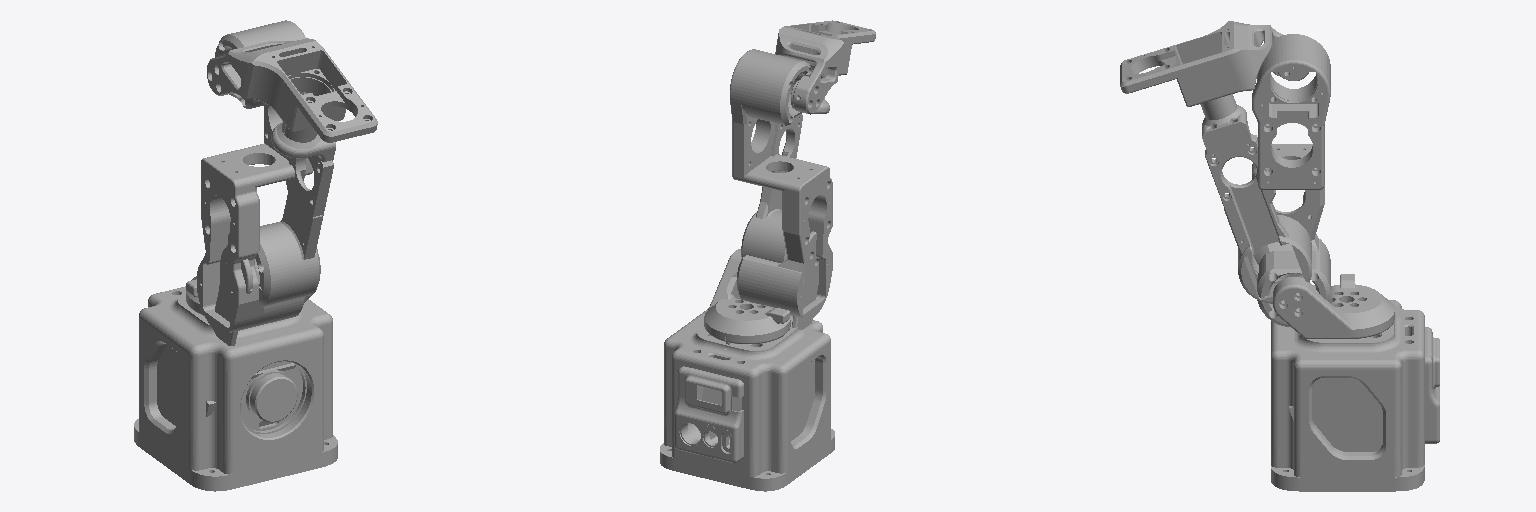
URDF robot description (dummy):
<?xml version="1.0" ?>
<!-- =================================================================================== -->
<!-- |    This document was autogenerated by xacro from /data/QRC2025/ros2/dummy_ws/src/dummy-ros2_description/urdf/dummy-ros2.xacro | -->
<!-- |    EDITING THIS FILE BY HAND IS NOT RECOMMENDED                                 | -->
<!-- =================================================================================== -->
<robot name="dummy">
  <material name="silver">
    <color rgba="0.700 0.700 0.700 1.000"/>
  </material>
  <transmission name="Joint1_tran">
    <type>transmission_interface/SimpleTransmission</type>
    <joint name="Joint1">
      <hardwareInterface>hardware_interface/EffortJointInterface</hardwareInterface>
    </joint>
    <actuator name="Joint1_actr">
      <hardwareInterface>hardware_interface/EffortJointInterface</hardwareInterface>
      <mechanicalReduction>1</mechanicalReduction>
    </actuator>
  </transmission>
  <transmission name="Joint2_tran">
    <type>transmission_interface/SimpleTransmission</type>
    <joint name="Joint2">
      <hardwareInterface>hardware_interface/EffortJointInterface</hardwareInterface>
    </joint>
    <actuator name="Joint2_actr">
      <hardwareInterface>hardware_interface/EffortJointInterface</hardwareInterface>
      <mechanicalReduction>1</mechanicalReduction>
    </actuator>
  </transmission>
  <transmission name="Joint3_tran">
    <type>transmission_interface/SimpleTransmission</type>
    <joint name="Joint3">
      <hardwareInterface>hardware_interface/EffortJointInterface</hardwareInterface>
    </joint>
    <actuator name="Joint3_actr">
      <hardwareInterface>hardware_interface/EffortJointInterface</hardwareInterface>
      <mechanicalReduction>1</mechanicalReduction>
    </actuator>
  </transmission>
  <transmission name="Joint4_tran">
    <type>transmission_interface/SimpleTransmission</type>
    <joint name="Joint4">
      <hardwareInterface>hardware_interface/EffortJointInterface</hardwareInterface>
    </joint>
    <actuator name="Joint4_actr">
      <hardwareInterface>hardware_interface/EffortJointInterface</hardwareInterface>
      <mechanicalReduction>1</mechanicalReduction>
    </actuator>
  </transmission>
  <transmission name="Joint5_tran">
    <type>transmission_interface/SimpleTransmission</type>
    <joint name="Joint5">
      <hardwareInterface>hardware_interface/EffortJointInterface</hardwareInterface>
    </joint>
    <actuator name="Joint5_actr">
      <hardwareInterface>hardware_interface/EffortJointInterface</hardwareInterface>
      <mechanicalReduction>1</mechanicalReduction>
    </actuator>
  </transmission>
  <transmission name="Joint6_tran">
    <type>transmission_interface/SimpleTransmission</type>
    <joint name="Joint6">
      <hardwareInterface>hardware_interface/EffortJointInterface</hardwareInterface>
    </joint>
    <actuator name="Joint6_actr">
      <hardwareInterface>hardware_interface/EffortJointInterface</hardwareInterface>
      <mechanicalReduction>1</mechanicalReduction>
    </actuator>
  </transmission>
  <gazebo>
    <plugin filename="libgazebo_ros_control.so" name="control"/>
  </gazebo>
  <gazebo reference="base_link">
    <material>Gazebo/Silver</material>
    <mu1>0.2</mu1>
    <mu2>0.2</mu2>
    <self_collide>true</self_collide>
    <gravity>true</gravity>
  </gazebo>
  <gazebo reference="link1_1_1">
    <material>Gazebo/Silver</material>
    <mu1>0.2</mu1>
    <mu2>0.2</mu2>
    <self_collide>true</self_collide>
  </gazebo>
  <gazebo reference="link2_1_1">
    <material>Gazebo/Silver</material>
    <mu1>0.2</mu1>
    <mu2>0.2</mu2>
    <self_collide>true</self_collide>
  </gazebo>
  <gazebo reference="link3_1_1">
    <material>Gazebo/Silver</material>
    <mu1>0.2</mu1>
    <mu2>0.2</mu2>
    <self_collide>true</self_collide>
  </gazebo>
  <gazebo reference="link4_1_1">
    <material>Gazebo/Silver</material>
    <mu1>0.2</mu1>
    <mu2>0.2</mu2>
    <self_collide>true</self_collide>
  </gazebo>
  <gazebo reference="link5_1_1">
    <material>Gazebo/Silver</material>
    <mu1>0.2</mu1>
    <mu2>0.2</mu2>
    <self_collide>true</self_collide>
  </gazebo>
  <gazebo reference="link6_1_1">
    <material>Gazebo/Silver</material>
    <mu1>0.2</mu1>
    <mu2>0.2</mu2>
    <self_collide>true</self_collide>
  </gazebo>
  <link name="world"/>
  <joint name="world_joint" type="fixed">
    <parent link="world"/>
    <child link="base_link"/>
    <origin rpy="3.1415926536 3.1415926536 0.0" xyz="0.0 0.0 0.0"/>
  </joint>
  <link name="base_link">
    <inertial>
      <origin rpy="0 0 0" xyz="-0.019286443307707055 0.0005817485706867557 0.05546290448958129"/>
      <mass value="3.4054232030550327"/>
      <inertia ixx="0.006318" ixy="-1.1e-05" ixz="-2e-06" iyy="0.00644" iyz="-0.000164" izz="0.006723"/>
    </inertial>
    <visual>
      <origin rpy="0 0 0" xyz="0 0 0"/>
      <geometry>
        <mesh filename="./meshes/base_link.stl" scale="0.001 0.001 0.001"/>
      </geometry>
      <material name="silver"/>
    </visual>
    <collision>
      <origin rpy="0 0 0" xyz="0 0 0"/>
      <geometry>
        <mesh filename="./meshes/base_link.stl" scale="0.001 0.001 0.001"/>
      </geometry>
    </collision>
  </link>
  <link name="link1_1_1">
    <inertial>
      <origin rpy="0 0 0" xyz="-0.005744742318232344 0.005464327027038366 0.012045619429015192"/>
      <mass value="0.4000119946706078"/>
      <inertia ixx="0.000172" ixy="5.8e-05" ixz="2.7e-05" iyy="0.000152" iyz="-3.9e-05" izz="0.00025"/>
    </inertial>
    <visual>
      <origin rpy="0 0 0" xyz="0.019225 0.000523 -0.100684"/>
      <geometry>
        <mesh filename="./meshes/link1_1_1.stl" scale="0.001 0.001 0.001"/>
      </geometry>
      <material name="silver"/>
    </visual>
    <collision>
      <origin rpy="0 0 0" xyz="0.019225 0.000523 -0.100684"/>
      <geometry>
        <mesh filename="./meshes/link1_1_1.stl" scale="0.001 0.001 0.001"/>
      </geometry>
    </collision>
  </link>
  <link name="link2_1_1">
    <inertial>
      <origin rpy="0 0 0" xyz="0.022476329402049397 0.0015836740439541114 0.0701478637986927"/>
      <mass value="0.9644194016592866"/>
      <inertia ixx="0.003808" ixy="-1e-05" ixz="0.000274" iyy="0.003848" iyz="1.3e-05" izz="0.000499"/>
    </inertial>
    <visual>
      <origin rpy="0 0 0" xyz="0.034725 -0.034477 -0.129184"/>
      <geometry>
        <mesh filename="./meshes/link2_1_1.stl" scale="0.001 0.001 0.001"/>
      </geometry>
      <material name="silver"/>
    </visual>
    <collision>
      <origin rpy="0 0 0" xyz="0.034725 -0.034477 -0.129184"/>
      <geometry>
        <mesh filename="./meshes/link2_1_1.stl" scale="0.001 0.001 0.001"/>
      </geometry>
    </collision>
  </link>
  <link name="link3_1_1">
    <inertial>
      <origin rpy="0 0 0" xyz="-0.010730263185093621 -0.022369081214190782 0.036467614070683996"/>
      <mass value="0.3817226974329336"/>
      <inertia ixx="0.000328" ixy="-2.4e-05" ixz="6.5e-05" iyy="0.00037" iyz="6.8e-05" izz="0.000146"/>
    </inertial>
    <visual>
      <origin rpy="0 0 0" xyz="-0.001925 -0.034477 -0.275184"/>
      <geometry>
        <mesh filename="./meshes/link3_1_1.stl" scale="0.001 0.001 0.001"/>
      </geometry>
      <material name="silver"/>
    </visual>
    <collision>
      <origin rpy="0 0 0" xyz="-0.001925 -0.034477 -0.275184"/>
      <geometry>
        <mesh filename="./meshes/link3_1_1.stl" scale="0.001 0.001 0.001"/>
      </geometry>
    </collision>
  </link>
  <link name="link4_1_1">
    <inertial>
      <origin rpy="0 0 0" xyz="-0.004221306676286125 0.09021372117053507 0.00026828289249919424"/>
      <mass value="0.44370009904209484"/>
      <inertia ixx="0.001103" ixy="-3.2e-05" ixz="1e-06" iyy="0.00012" iyz="-1e-06" izz="0.001078"/>
    </inertial>
    <visual>
      <origin rpy="0 0 0" xyz="0.016625 -0.024477 -0.327184"/>
      <geometry>
        <mesh filename="./meshes/link4_1_1.stl" scale="0.001 0.001 0.001"/>
      </geometry>
      <material name="silver"/>
    </visual>
    <collision>
      <origin rpy="0 0 0" xyz="0.016625 -0.024477 -0.327184"/>
      <geometry>
        <mesh filename="./meshes/link4_1_1.stl" scale="0.001 0.001 0.001"/>
      </geometry>
    </collision>
  </link>
  <link name="link5_1_1">
    <inertial>
      <origin rpy="0 0 0" xyz="-0.0007044959912857188 0.04181588666040692 1.9856549020258463e-05"/>
      <mass value="0.1329416987985629"/>
      <inertia ixx="0.000148" ixy="3e-05" ixz="0.0" iyy="3.5e-05" iyz="-0.0" izz="0.00016"/>
    </inertial>
    <visual>
      <origin rpy="0 0 0" xyz="-0.000175 -0.151477 -0.327184"/>
      <geometry>
        <mesh filename="./meshes/link5_1_1.stl" scale="0.001 0.001 0.001"/>
      </geometry>
      <material name="silver"/>
    </visual>
    <collision>
      <origin rpy="0 0 0" xyz="-0.000175 -0.151477 -0.327184"/>
      <geometry>
        <mesh filename="./meshes/link5_1_1.stl" scale="0.001 0.001 0.001"/>
      </geometry>
    </collision>
  </link>
  <link name="link6_1_1">
    <inertial>
      <origin rpy="0 0 0" xyz="8.866549679534264e-08 0.001500477150790519 2.701463612808652e-07"/>
      <mass value="0.00918018258883941"/>
      <inertia ixx="1e-06" ixy="0.0" ixz="-0.0" iyy="1e-06" iyz="0.0" izz="1e-06"/>
    </inertial>
    <visual>
      <origin rpy="0 0 0" xyz="0.018331 -0.228477 -0.327078"/>
      <geometry>
        <mesh filename="./meshes/link6_1_1.stl" scale="0.001 0.001 0.001"/>
      </geometry>
      <material name="silver"/>
    </visual>
    <collision>
      <origin rpy="0 0 0" xyz="0.018331 -0.228477 -0.327078"/>
      <geometry>
        <mesh filename="./meshes/link6_1_1.stl" scale="0.001 0.001 0.001"/>
      </geometry>
    </collision>
  </link>
  <link name="tool0">
    <inertial>
      <origin rpy="0 0 0" xyz="0 0 0.05"/> <!-- 假设重心位于矩形中间偏前 -->
      <mass value="0.05"/>
      <inertia ixx="1e-5" ixy="0.0" ixz="0.0" iyy="1e-5" iyz="0.0" izz="1e-5"/>
    </inertial>
    <visual>
      <origin rpy="0 0 0" xyz="0 0 0.05"/> <!-- 相机的几何中心 -->
      <geometry>
        <box size="0.08 0.04 0.04"/> <!-- 4x4x10 cm 的相机形状 -->
      </geometry>
      <material name="silver"/>
    </visual>
    <collision>
      <origin rpy="0 0 0" xyz="0 0 0.05"/>
      <geometry>
        <box size="0.04 0.04 0.1"/>
      </geometry>
    </collision>
  </link>
  <joint name="Joint1" type="revolute">
    <origin rpy="0 0 0" xyz="-0.019225 -0.000523 0.100684"/>
    <parent link="base_link"/>
    <child link="link1_1_1"/>
    <axis xyz="0.0 -0.0 -1.0"/>
    <limit effort="150" lower="-2.93" upper="2.18" velocity="3.15"/>
  </joint>
  <joint name="Joint2" type="revolute">
    <origin rpy="0 0 0" xyz="-0.0155 0.035 0.0285"/>
    <parent link="link1_1_1"/>
    <child link="link2_1_1"/>
    <axis xyz="-1.0 -0.0 0.0"/>
    <limit effort="150" lower="-1.27" upper="1.27" velocity="3.15"/>
  </joint>
  <joint name="Joint3" type="revolute">
    <origin rpy="0 0 0" xyz="0.03665 0.0 0.146"/>
    <parent link="link2_1_1"/>
    <child link="link3_1_1"/>
    <axis xyz="-1.0 0.0 -0.0"/>
    <limit effort="150" lower="0.68" upper="3.11" velocity="3.15"/>
  </joint>
  <joint name="Joint4" type="revolute">
    <origin rpy="0 0 0" xyz="-0.01855 -0.01 0.052"/>
    <parent link="link3_1_1"/>
    <child link="link4_1_1"/>
    <axis xyz="0.0 -1.0 0.0"/>
    <limit effort="150" lower="-3.11" upper="2.71" velocity="3.15"/>
  </joint>
  <joint name="Joint5" type="revolute">
    <origin rpy="0 0 0" xyz="0.0168 0.127 0.0"/>
    <parent link="link4_1_1"/>
    <child link="link5_1_1"/>
    <axis xyz="-1.0 0.0 -0.0"/>
    <limit effort="150" lower="-1.8" upper="1.8" velocity="3.15"/>
  </joint>
  <joint name="Joint6" type="revolute">
    <origin rpy="0 0 0" xyz="-0.018506 0.077 -0.000106"/>
    <parent link="link5_1_1"/>
    <child link="link6_1_1"/>
    <axis xyz="-0.0 -1.0 0.0"/>
    <limit effort="150" lower="-3.14" upper="3.14" velocity="3.15"/>
  </joint>
  <joint name="tool0_joint" type="fixed">
    <parent link="link6_1_1"/>
    <child link="tool0"/>
    <origin xyz="0 0.03 -0.05" rpy="0 0 0"/> <!-- 位于 link6_1_1 正前方 5 cm -->
  </joint>
</robot>

--- Render facts (derived) ---
3 views of the same robot in one strip: view 1: azimuth 30°, elevation 25°; view 2: azimuth 150°, elevation 25°; view 3: azimuth 270°, elevation 25° (orthographic).
Model dummy with 9 links and 8 joints (6 revolute, 2 fixed), rooted at world, posed joints at zero except 1 at the middle of their limits (Joint3 = 1.9).
Visible links, largest first — view 1: base_link, link2_1_1, link3_1_1, link4_1_1, link5_1_1; view 2: base_link, link2_1_1, link3_1_1, link1_1_1, link4_1_1, link5_1_1; view 3: base_link, link2_1_1, link4_1_1, link3_1_1, link1_1_1.
Boxes of the visible links, x1,y1,x2,y2 form: base_link: (134, 286, 337, 491); link2_1_1: (197, 20, 315, 333); link3_1_1: (207, 38, 377, 142); link4_1_1: (255, 122, 335, 306); link5_1_1: (213, 247, 295, 378); base_link: (660, 308, 834, 491); link2_1_1: (730, 49, 832, 319); link3_1_1: (775, 20, 875, 114); link1_1_1: (704, 249, 790, 343); link4_1_1: (741, 98, 829, 262); link5_1_1: (792, 231, 818, 329); base_link: (1271, 300, 1439, 491); link2_1_1: (1252, 34, 1330, 326); link4_1_1: (1200, 94, 1311, 303); link3_1_1: (1120, 21, 1308, 106); link1_1_1: (1273, 274, 1394, 338).
Size in the robot's own frame: 0.1 by 0.2078 by 0.2998 metres.
7 mesh visuals loaded from 7 distinct referenced files (7 binary STL).
